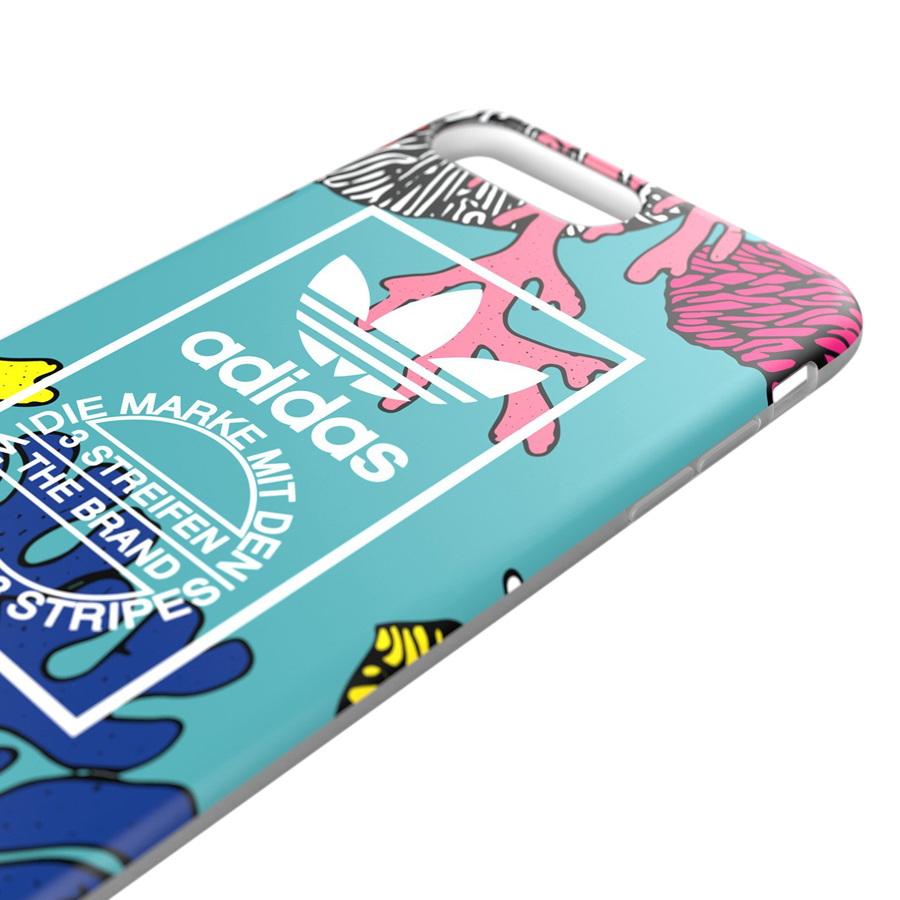Adidas: (176, 250, 552, 489)
